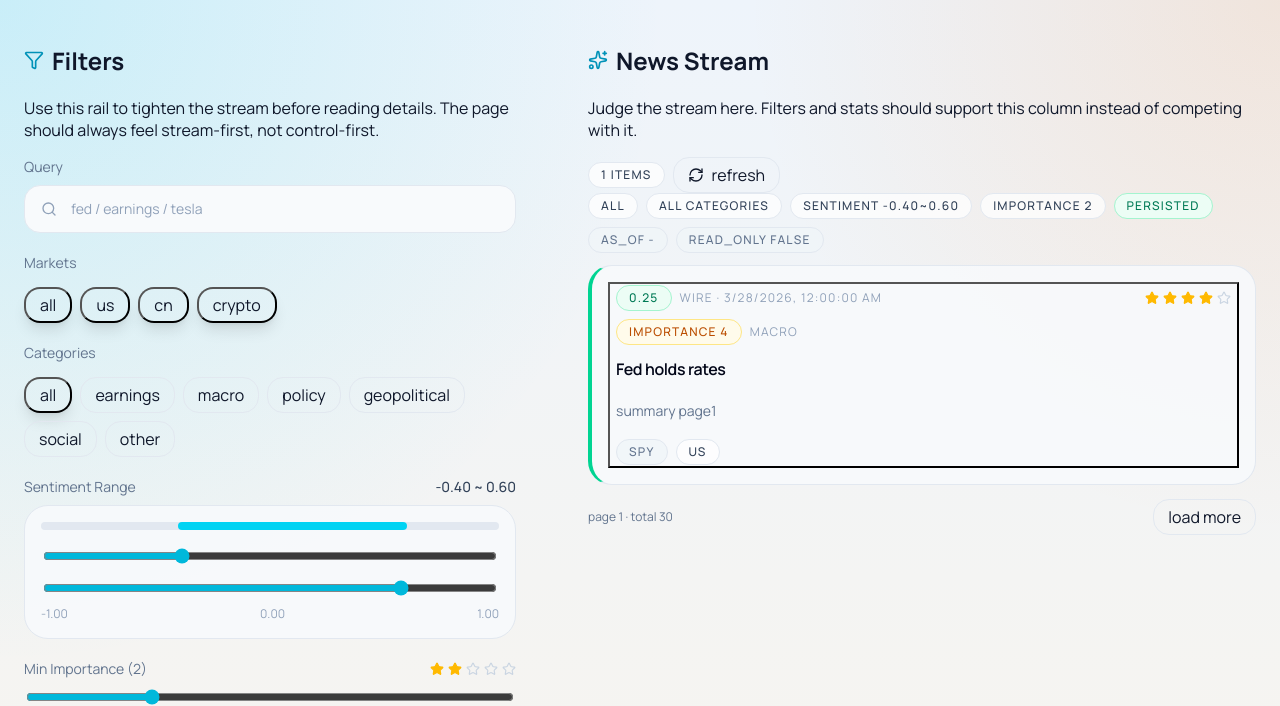
Test case: NewsCenterPage › loads detail when expanding one news item and supports load more pagination
This screenshot has width=1280, height=706.
Expected: the element named "importance 4 of 5" is shown, left=1145, top=291, right=1231, bottom=305
Click the button "Fed holds rates" at x=644, y=298, box left=608, top=282, right=1239, bottom=468
(page scrolled)
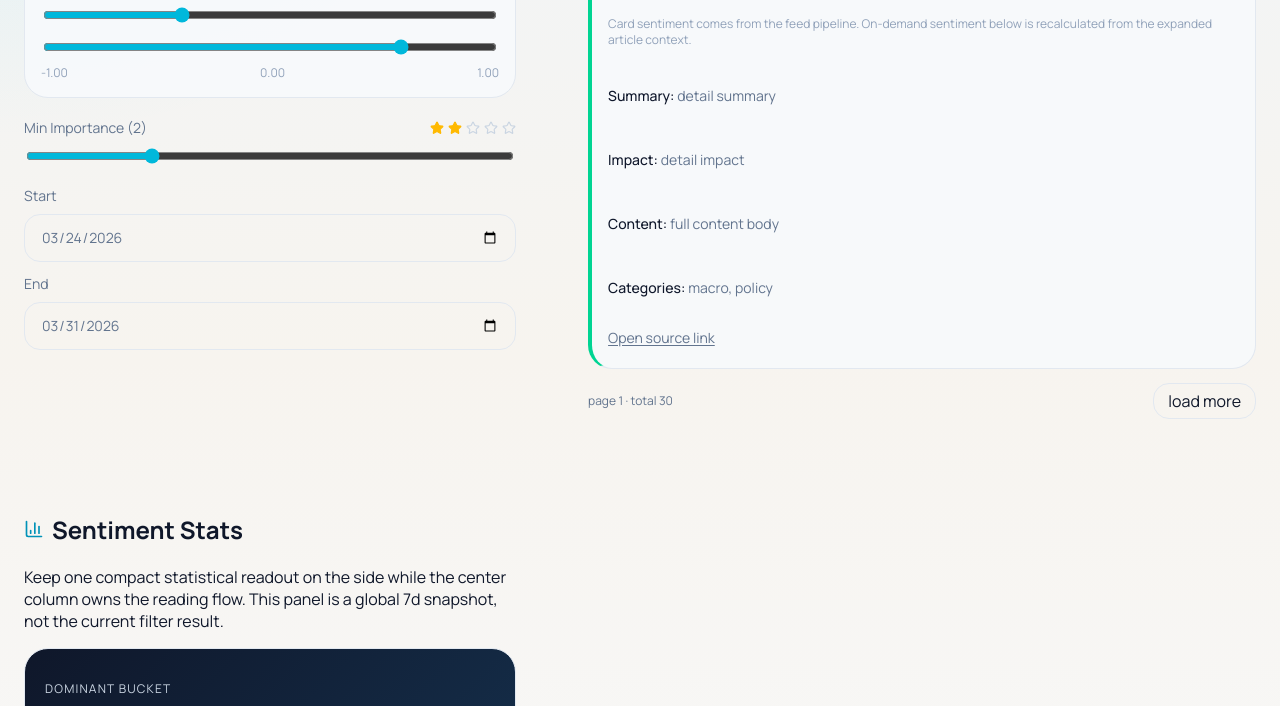
Now the text "Summary: detail summary" is shown, box left=608, top=86, right=776, bottom=105
Now the link "Open source link" is shown, box left=608, top=328, right=715, bottom=347
Click the button "load more" at x=1205, y=401, box left=1153, top=383, right=1256, bottom=419
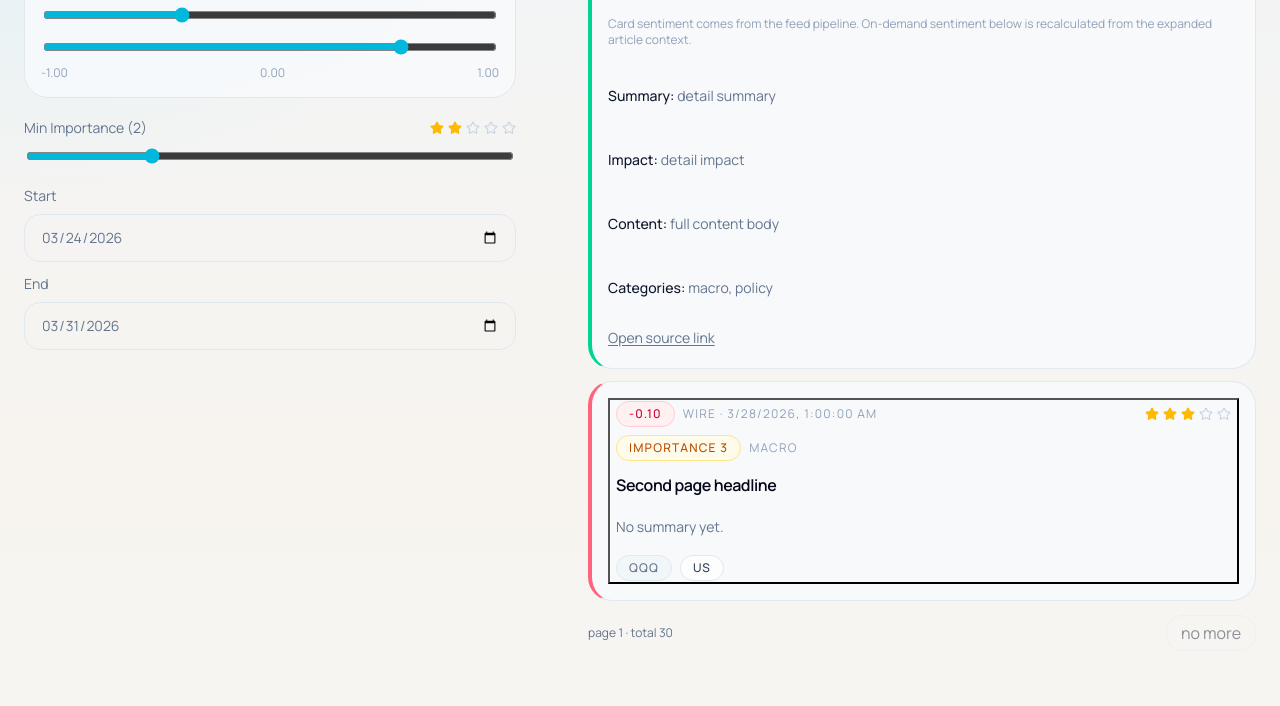
Now the text "Second page headline" is shown, box left=616, top=474, right=776, bottom=496
